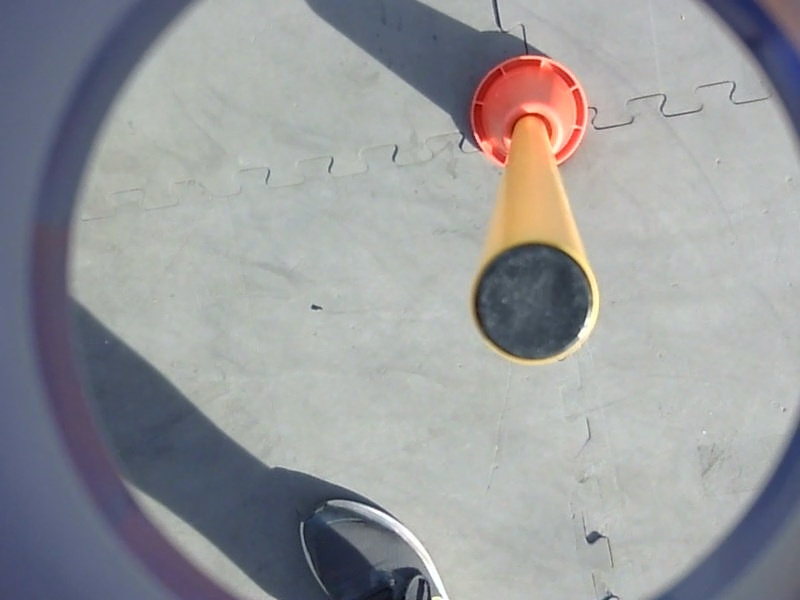tip: (465, 236, 605, 375)
